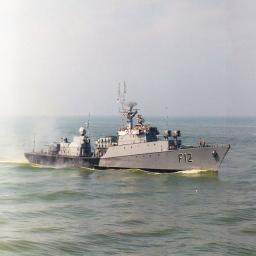Fragata: (23, 80, 231, 178)
